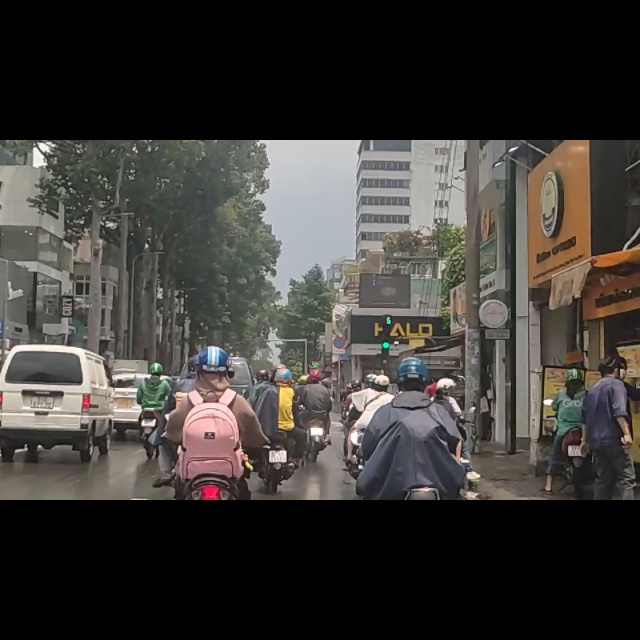bien_cam: (332, 347, 347, 374)
